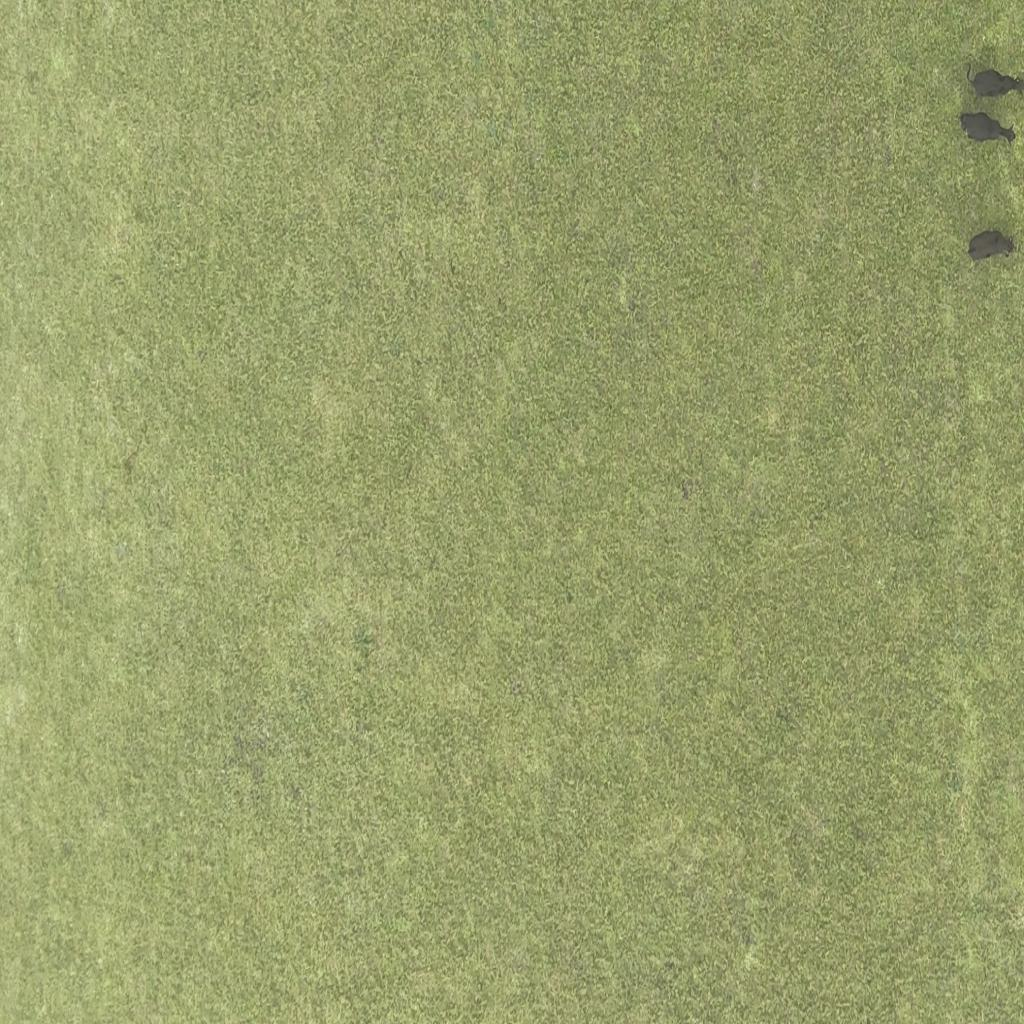cow: (958, 103, 1019, 152), (963, 60, 1024, 103), (967, 222, 1016, 270)
